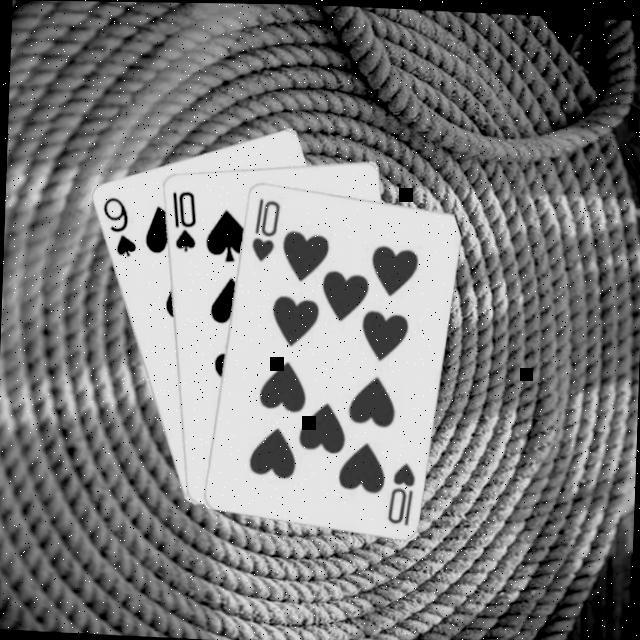10H: (384, 455, 420, 526), (248, 192, 284, 262)
10S: (167, 183, 201, 252)
9S: (98, 191, 141, 259)
